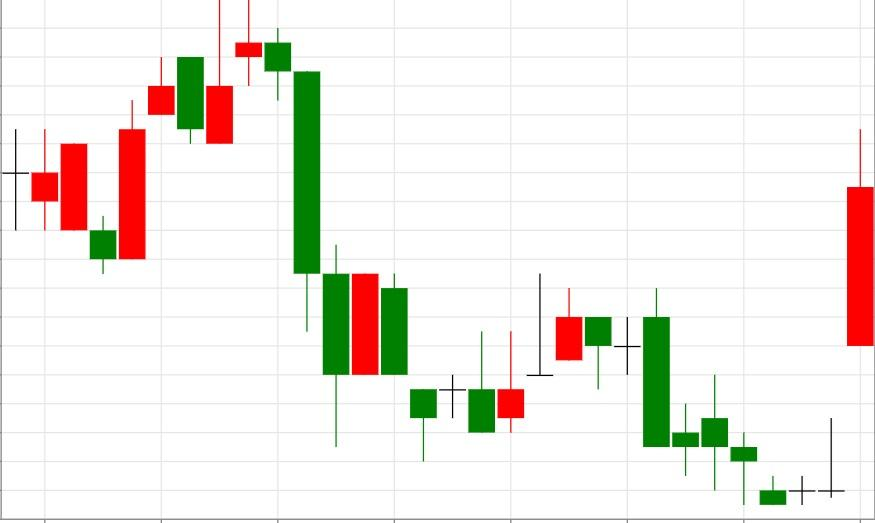three_black_crows_fall: (206, 0, 350, 448)
